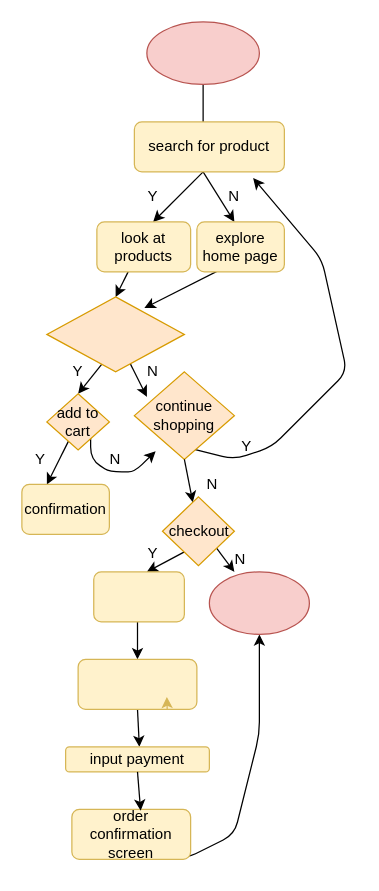
Image size: 379x891. Some labels were removed from this diagram. The centre of each missing label's shape, as x and y in pixels:
"user enters website" belongs at pixel 202 52.
"user leaves website" belongs at pixel 258 602.
"view cart screen" belongs at pixel 138 596.
"view payment screen" belongs at pixel 137 683.
"view specific product" belongs at pixel 115 334.
